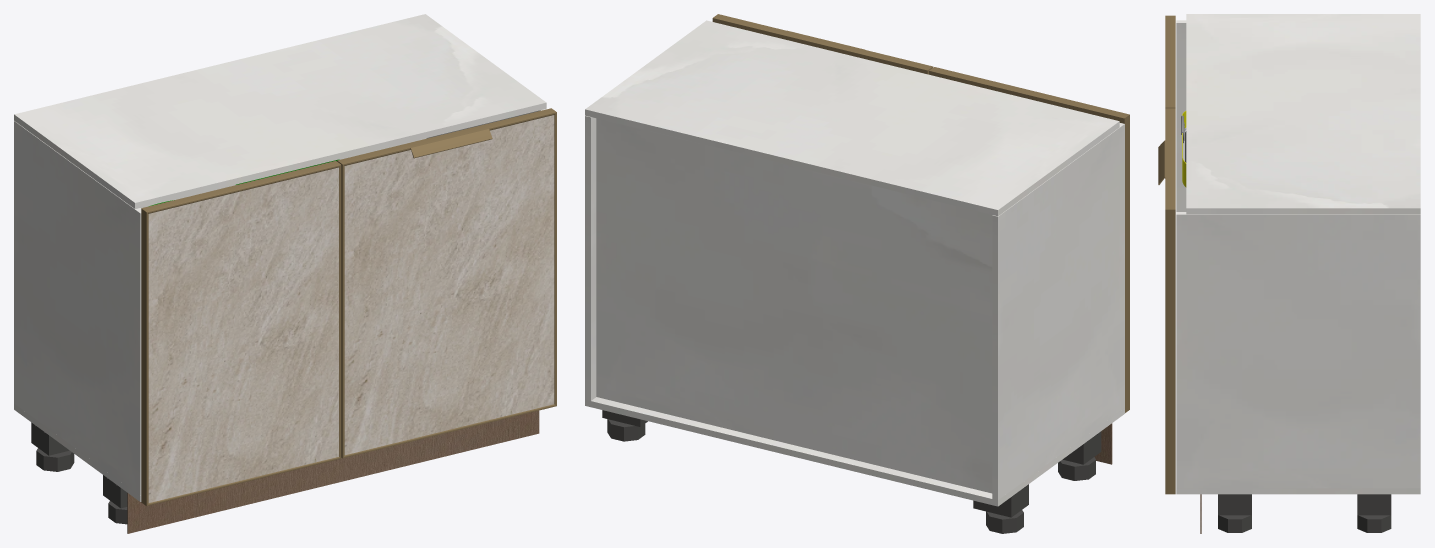
File: BB-AC-TTS-ST-LMC-LHS-XXX-1050-720-560-15.glb
3 views of the same model, side by side, from view 1: azimuth 30°, elevation 25°; view 2: azimuth 150°, elevation 25°; view 3: azimuth 270°, elevation 25° (orthographic). The views are drawn at different scales.
Parts seen in each view (by area): view 1: Object_node_20, Object_node_18, TP_node_1, TP_node, Object_node_22, Extrusion_node_1, Extrusion, ExtrSplGeo, Extrusion_node_8, Extrusion_node, Extrusion_node_6, TP (+2 smaller); view 2: TP_node_2, TP_node_1, TP_node, TP, TP_node_0, Extrusion, Extrusion_node_1, ExtrSplGeo, Plate, Foot, Foot_node_0, Extrusion_node_4 (+2 smaller); view 3: TP_node_0, TP_node_1, Extrusion_node_6, TP_node, TP, Extrusion, Plate_node, Plate_node_1, ExtrSplGeo, Foot_node, Foot_node_1, Extrusion_node_4 (+1 smaller).
Boxes of the visible parts, x1,y1,x2,y2 form: Object_node_20: (344, 115, 554, 455); Object_node_18: (148, 167, 338, 502); TP_node_1: (14, 14, 546, 208); TP_node: (14, 121, 141, 495); Object_node_22: (127, 410, 539, 533); Extrusion_node_1: (141, 208, 148, 505); Extrusion: (141, 161, 340, 213); ExtrSplGeo: (405, 125, 492, 158); Extrusion_node_8: (337, 160, 344, 458); Extrusion_node: (339, 165, 341, 458); Extrusion_node_6: (554, 112, 556, 405); TP: (14, 404, 141, 501); TP_node_2: (596, 118, 992, 493); TP_node_1: (585, 20, 1119, 216); TP_node: (992, 123, 1124, 500); TP: (585, 397, 1124, 506); TP_node_0: (585, 115, 596, 400); Extrusion: (929, 67, 1129, 121); Extrusion_node_1: (1120, 115, 1129, 412); ExtrSplGeo: (781, 30, 864, 57); Plate: (973, 484, 1028, 517); Foot: (986, 510, 1023, 533); Foot_node_0: (1058, 457, 1095, 480); Extrusion_node_4: (713, 14, 785, 38); TP_node_0: (1176, 212, 1420, 488); TP_node_1: (1186, 14, 1420, 214); Extrusion_node_6: (1165, 209, 1175, 494); TP_node: (1176, 20, 1186, 211); TP: (1176, 488, 1420, 494); Extrusion: (1165, 15, 1175, 107); Plate_node: (1357, 494, 1391, 515); Plate_node_1: (1218, 494, 1251, 515); ExtrSplGeo: (1158, 140, 1175, 184); Foot_node: (1357, 515, 1391, 532); Foot_node_1: (1218, 515, 1251, 532); Extrusion_node_4: (1165, 177, 1175, 209).
Size of what is drawn, in the model's own units: 1.05 by 0.82 by 0.5992.
16 materials, 3 textured.
